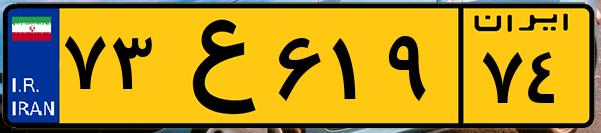1: (330, 28, 385, 110)
3: (110, 28, 158, 98)
4: (525, 38, 570, 115)
6: (270, 28, 330, 110)
7: (57, 26, 110, 100), (475, 38, 525, 113)
9: (385, 28, 445, 110)
ع: (158, 12, 270, 120)
